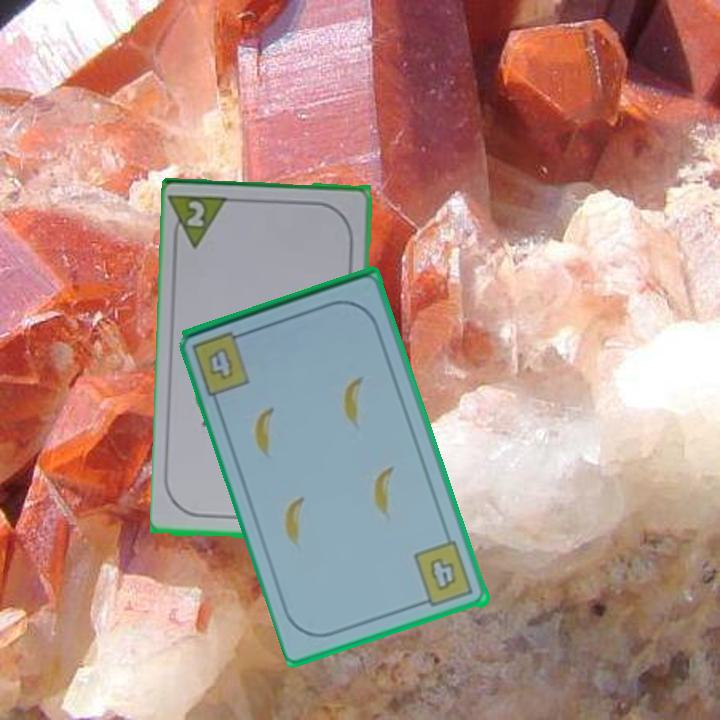2p: (169, 191, 235, 253)
4b: (411, 538, 477, 610), (189, 327, 253, 399)
